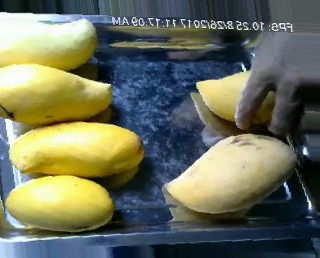Mango: (163, 133, 298, 212), (9, 121, 142, 175), (0, 64, 111, 125), (4, 176, 114, 230), (0, 18, 96, 69), (197, 68, 282, 125)
